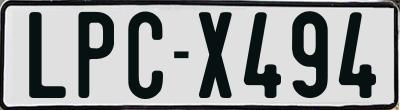4: (339, 9, 381, 97), (244, 11, 282, 103)
9: (289, 10, 328, 98)
C: (127, 9, 168, 99)
L: (27, 11, 65, 102)
P: (75, 9, 116, 99)
X: (199, 11, 233, 98)
